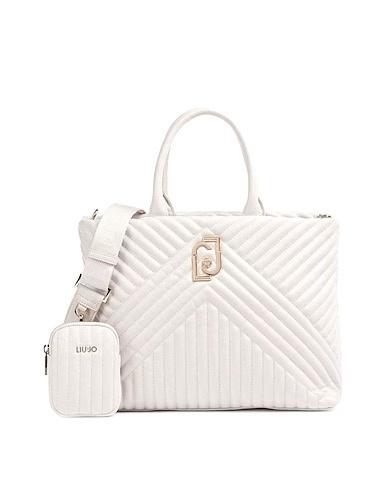LIU-JO: (192, 236, 221, 282)
